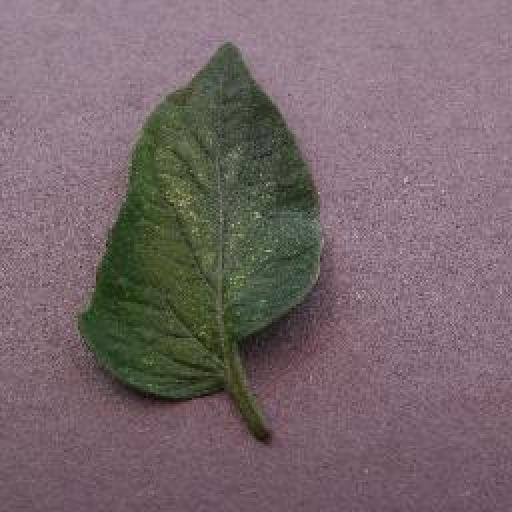Spider Mites: (79, 40, 324, 399)
